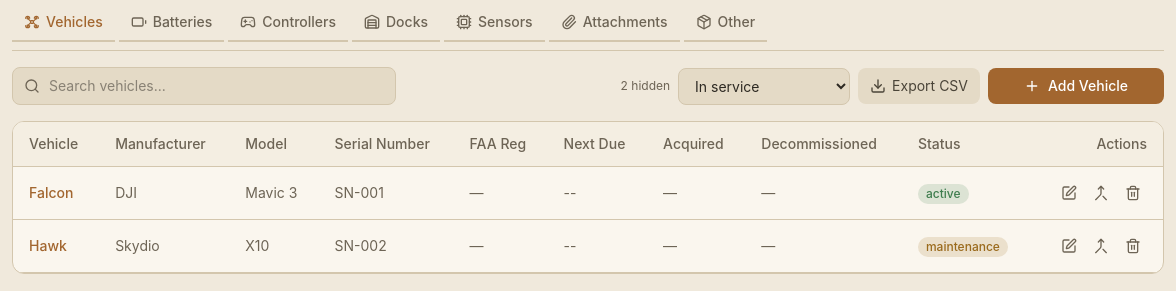
Test: FleetPage › shows only retired and damaged when asked for them
Expected: the link "Falcon" is shown, [29,184,73,201]
Select "Retired & damaged" in the dropdown named "Status" at point(764, 86), box [678,68,850,104]
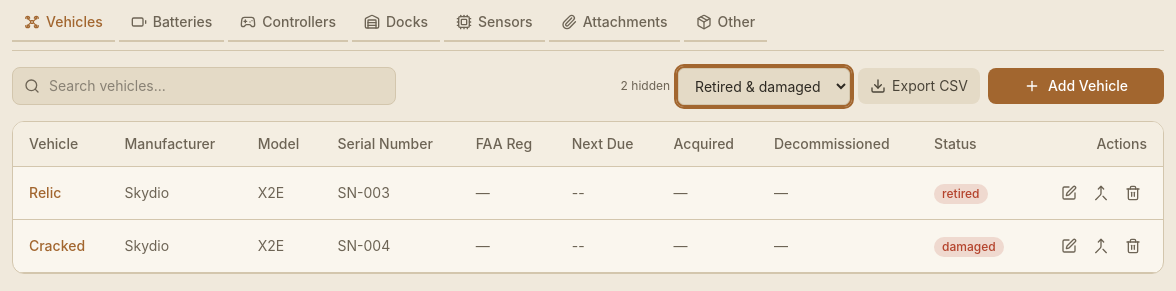
Now the link "Relic" is shown, box [29,184,61,201]
Now the link "Cracked" is shown, box [29,237,85,254]
Now the link "Falcon" is gone
